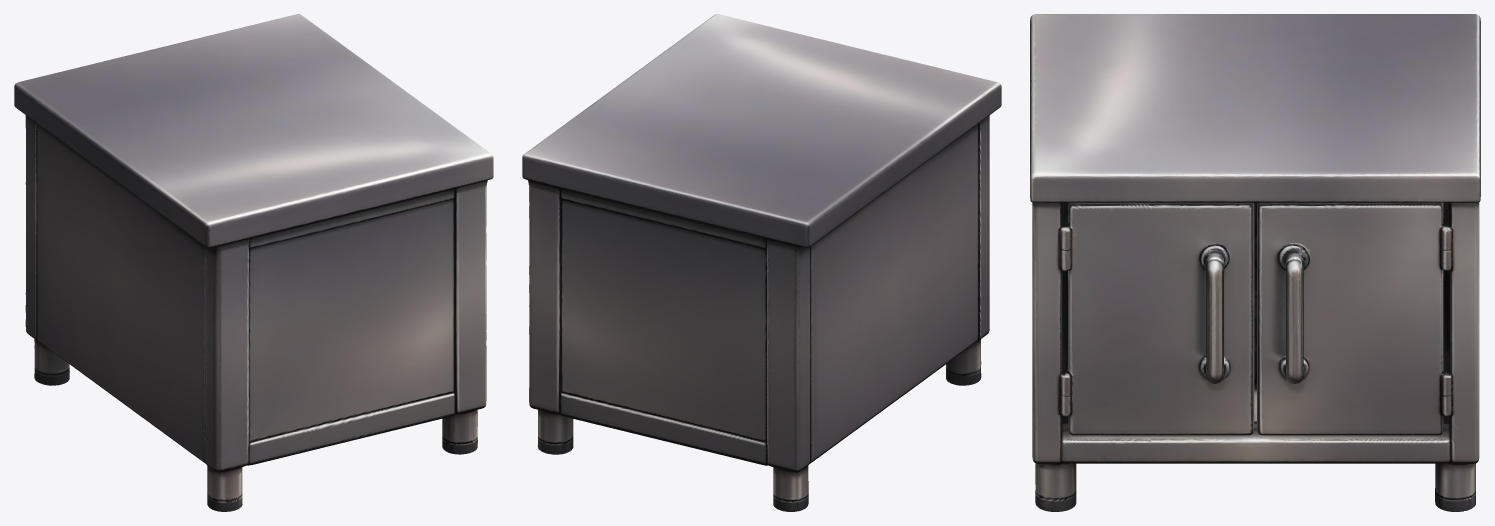
The model's file is tripo_convert_a52281ce-f297-4895-a7ff-dc8bfb805d88.fbx.
3 renders of one model, left to right at view 1: azimuth 30°, elevation 25°; view 2: azimuth 150°, elevation 25°; view 3: azimuth 270°, elevation 25°, orthographic. The views are drawn at different scales.
Parts seen in each view (by area): view 1: tripo_node_a52281ce; view 2: tripo_node_a52281ce; view 3: tripo_node_a52281ce.
Boxes of the visible parts, left/top/right/bottom form: tripo_node_a52281ce: left=14, top=14, right=493, bottom=511; tripo_node_a52281ce: left=522, top=14, right=1001, bottom=511; tripo_node_a52281ce: left=1030, top=14, right=1480, bottom=511.
Size of the model in its own units: 0.9059 by 0.8396 by 0.9999.
